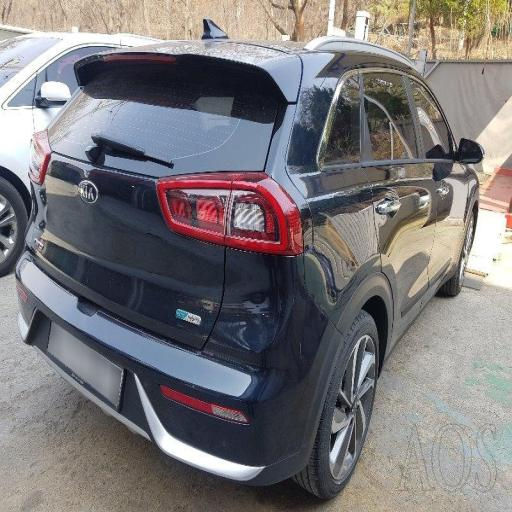scratch: (174, 266, 277, 368)
